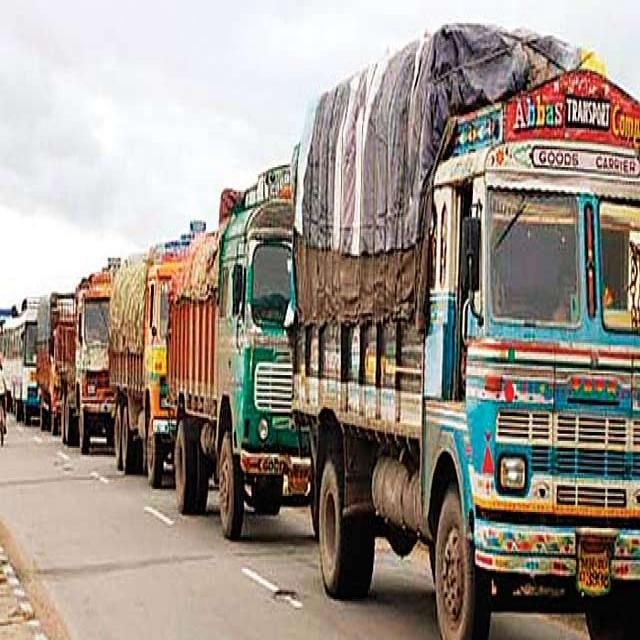goods: (296, 24, 580, 256), (110, 258, 148, 351), (175, 229, 222, 300)
truck: (291, 69, 640, 637), (169, 164, 312, 540), (110, 222, 205, 486)
